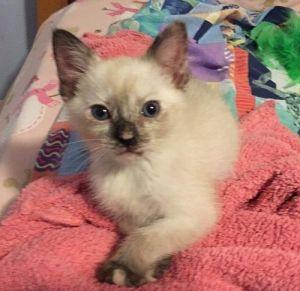siamese: (46, 18, 196, 166)
